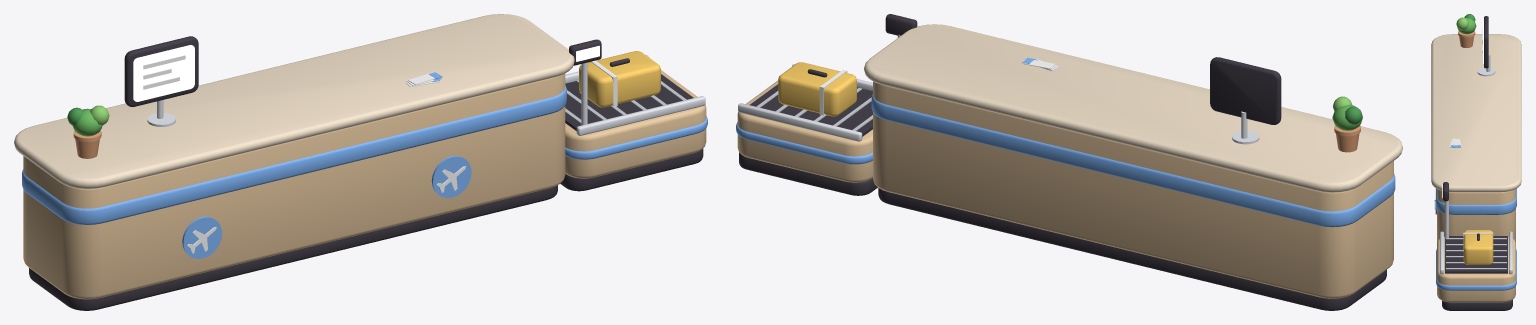
Rendered from checkin_desk.glb.
3 renders of one model, left to right at view 1: azimuth 30°, elevation 25°; view 2: azimuth 150°, elevation 25°; view 3: azimuth 270°, elevation 25°, orthographic. The views are drawn at different scales.
Parts seen in each view (by area): view 1: checkin_desk; view 2: checkin_desk; view 3: checkin_desk.
Boxes of the visible parts, <box> form: checkin_desk: <box>14,14,707,310</box>; checkin_desk: <box>736,14,1402,310</box>; checkin_desk: <box>1431,14,1521,310</box>.
Size of the model in its own units: 4.66 by 1.49 by 0.92.
